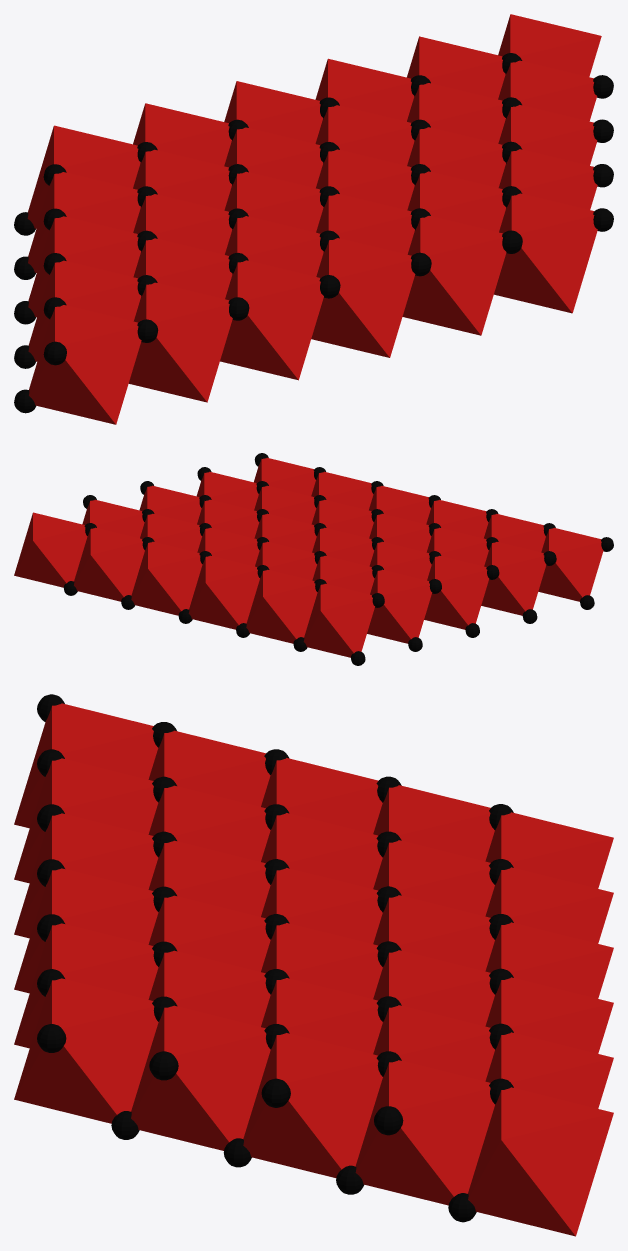
The model's file is Brucita.obj.
3 renders of one model, top to bottom at view 1: azimuth 30°, elevation 25°; view 2: azimuth 150°, elevation 25°; view 3: azimuth 270°, elevation 25°, orthographic. The views are drawn at different scales.
Parts seen in each view (by area): view 1: Brucita_Solid.582, Folha_hidroxila.002_Sphere.046, Folha_hidroxila.003_Sphere.048; view 2: Brucita_Solid.582, Folha_hidroxila.002_Sphere.046, Folha_hidroxila.003_Sphere.048; view 3: Brucita_Solid.582, Folha_hidroxila.002_Sphere.046, Folha_hidroxila.003_Sphere.048.
Boxes of the visible parts, x1,y1,x2,y2 form: Brucita_Solid.582: (27,14,601,424); Folha_hidroxila.002_Sphere.046: (43,53,613,365); Folha_hidroxila.003_Sphere.048: (14,212,36,413); Brucita_Solid.582: (14,457,603,657); Folha_hidroxila.002_Sphere.046: (83,453,613,607); Folha_hidroxila.003_Sphere.048: (63,581,594,665); Brucita_Solid.582: (14,703,613,1236); Folha_hidroxila.002_Sphere.046: (37,694,513,1135); Folha_hidroxila.003_Sphere.048: (111,1111,476,1222).
Bounding box in the file's own units: 1.14 × 0.1358 × 0.6518.
